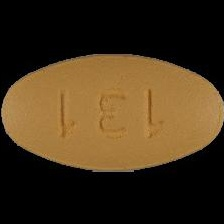50436-0131: (0, 0, 224, 224)
